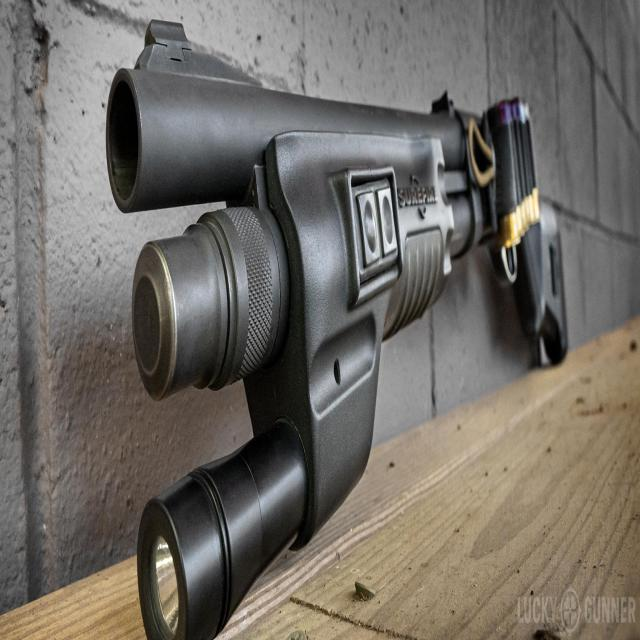ShotGun: (106, 21, 568, 640)
